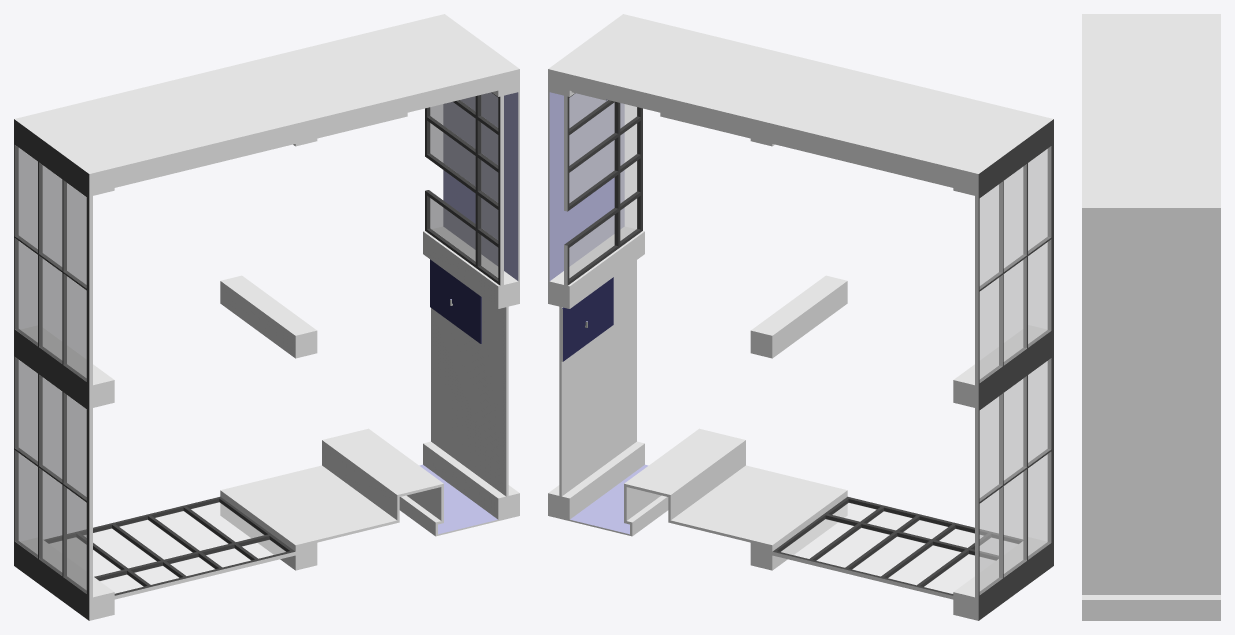
The model's file is zidovi2.dae.
3 renders of one model, left to right at view 1: azimuth 30°, elevation 25°; view 2: azimuth 150°, elevation 25°; view 3: azimuth 270°, elevation 25°, orthographic. The views are drawn at different scales.
Parts seen in each view (by area): view 1: zidovi2, _ncl1_4, _ncl1_2, _ncl1_10, _ncl1_6; view 2: zidovi2, _ncl1_4, _ncl1_2, _ncl1_10, _ncl1_6; view 3: zidovi2.
Boxes of the visible parts, x1,y1,x2,y2 form: zidovi2: [14, 14, 519, 620]; _ncl1_4: [14, 92, 498, 593]; _ncl1_2: [14, 92, 500, 620]; _ncl1_10: [419, 92, 518, 534]; _ncl1_6: [430, 259, 481, 343]; zidovi2: [548, 14, 1053, 620]; _ncl1_4: [569, 93, 1050, 594]; _ncl1_2: [564, 93, 1053, 620]; _ncl1_10: [549, 92, 648, 534]; _ncl1_6: [562, 99, 613, 361]; zidovi2: [1082, 14, 1220, 620].
Size of the model in its own units: 11.91 by 11.8 by 3.6.
